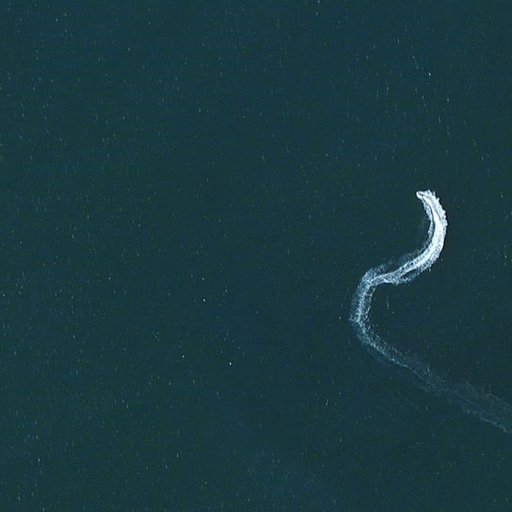ship: (413, 188, 439, 209)
